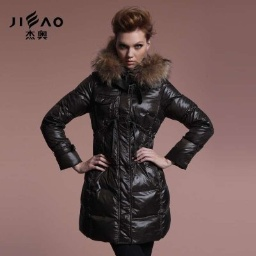face: (105, 3, 158, 71)
